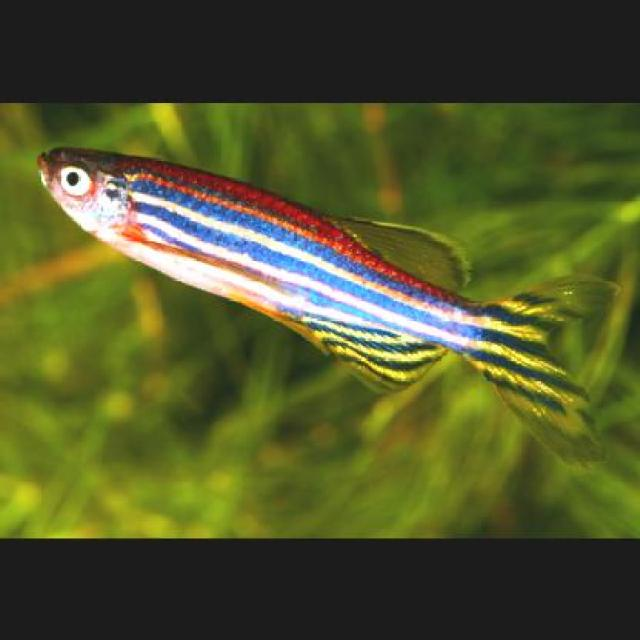ZebraFish: (35, 142, 620, 461)
